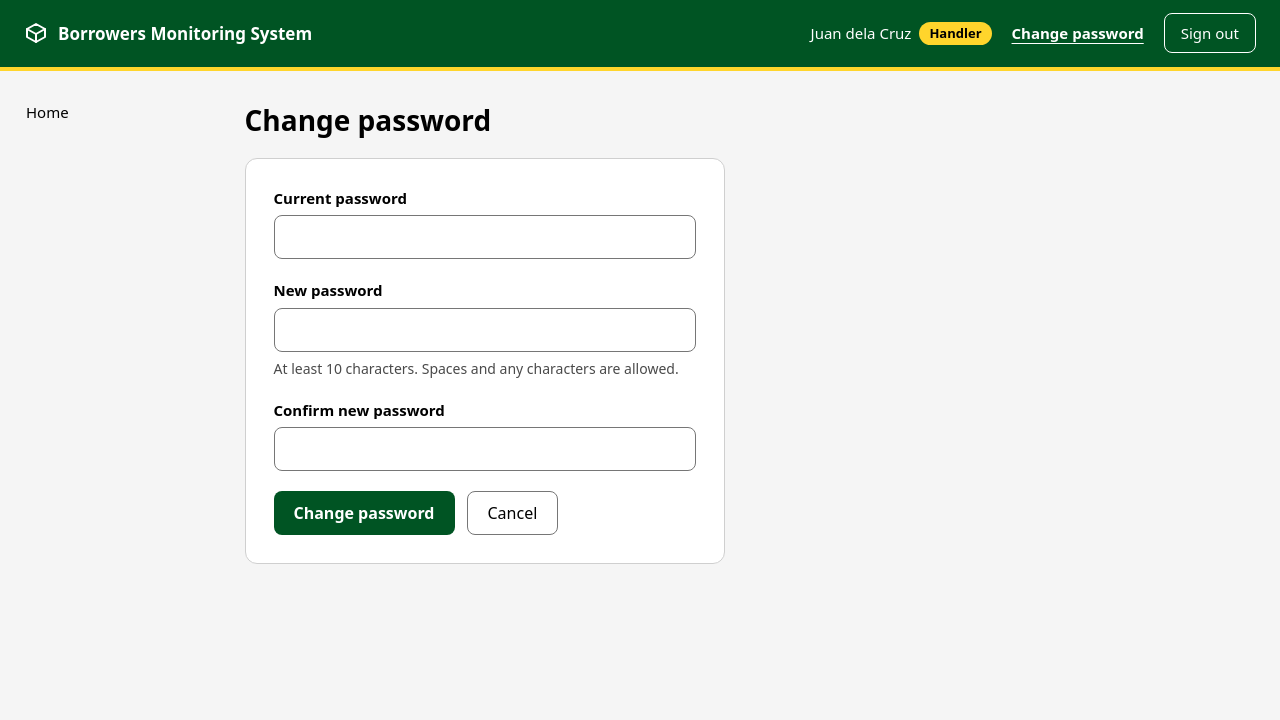
Test: a valid change sends only the current and new password, then confirms and clears the form
The width and height of the screenshot is (1280, 720).
Type "old-password-1" into the password field labelled "Current password" at (484, 237), box [274,215,696,259]
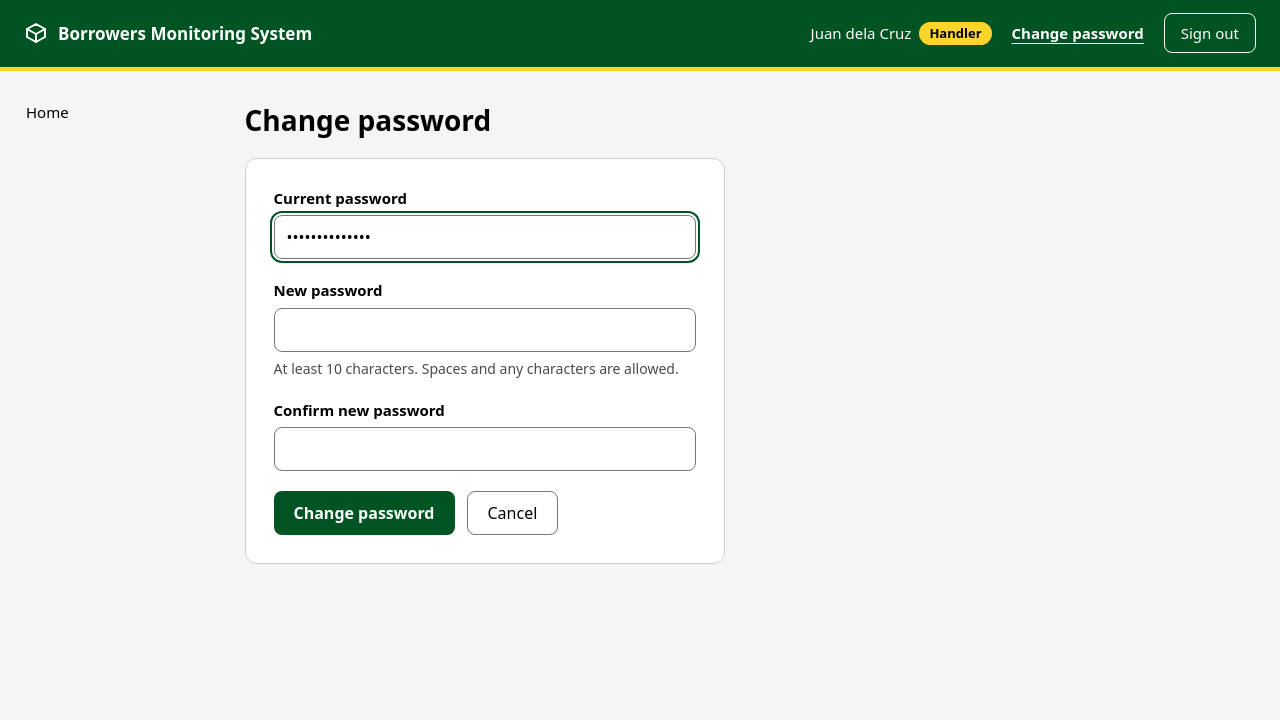
Type "a longer phrase" into the password field labelled "New password" at (484, 330), box [274,308,696,352]
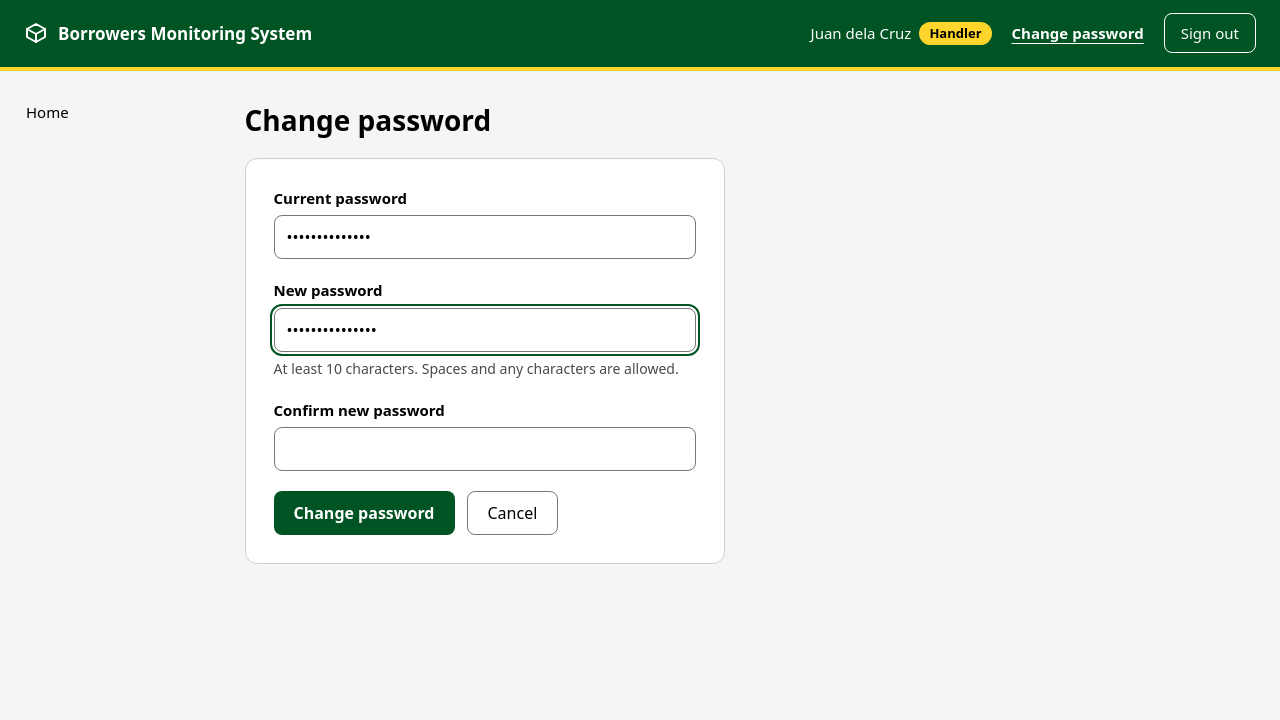
Type "a longer phrase" into the password field labelled "Confirm new password" at (484, 449), box [274,427,696,471]
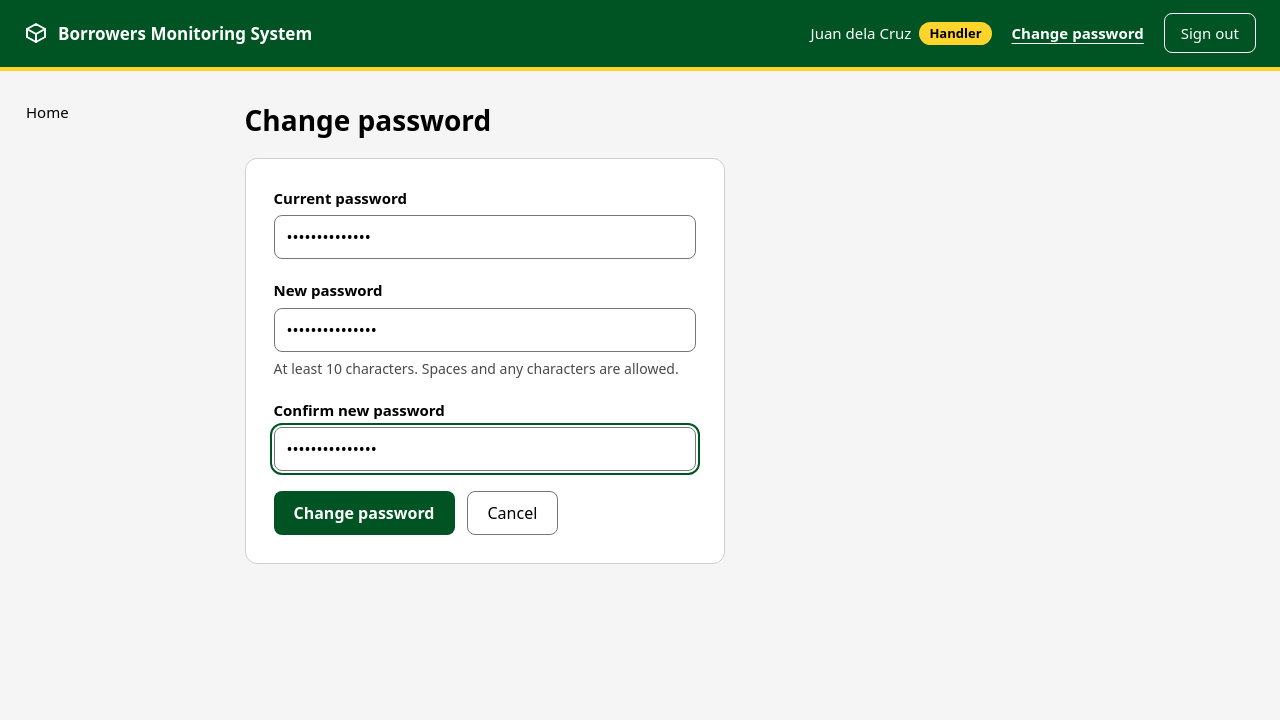
Click the button "Change password" at (364, 513), box [274,491,454,535]
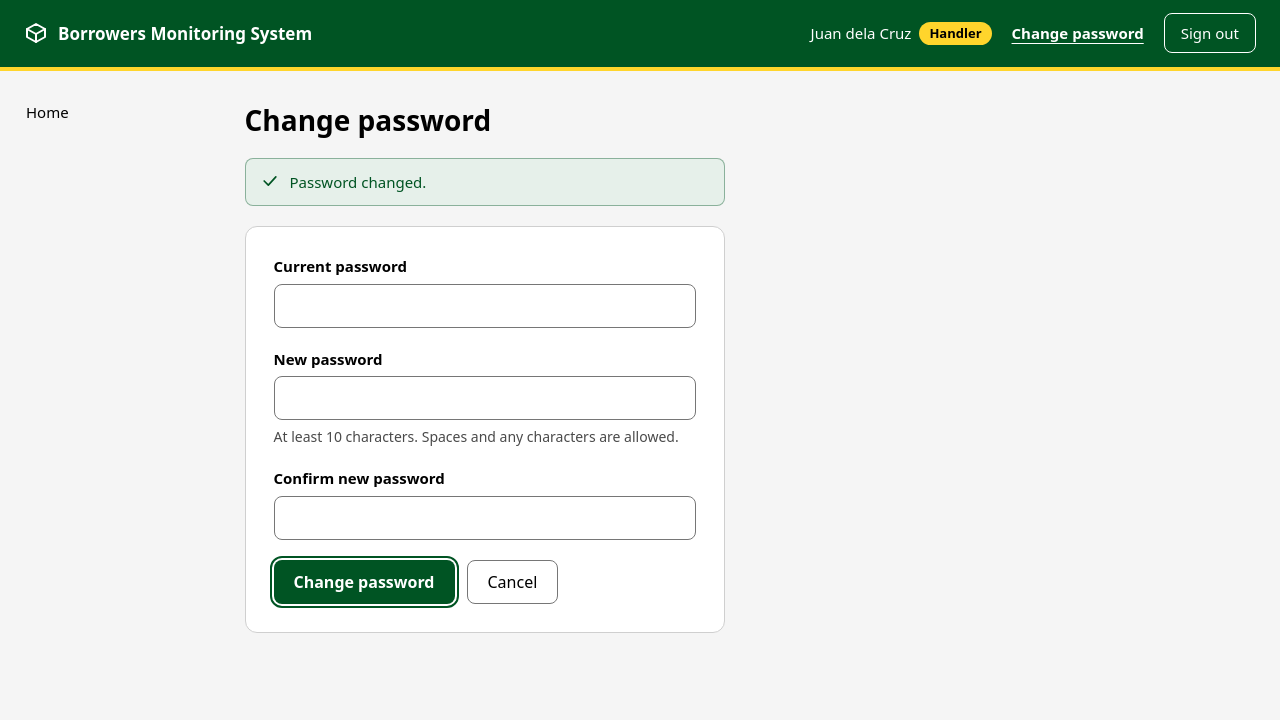
Expected: the message reads "Password changed.", [290,172,426,192]
Expected: the password field labelled "New password" is empty, [274,376,696,420]
